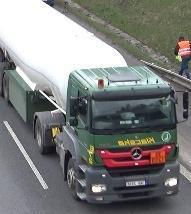Truck: (0, 0, 180, 203)
